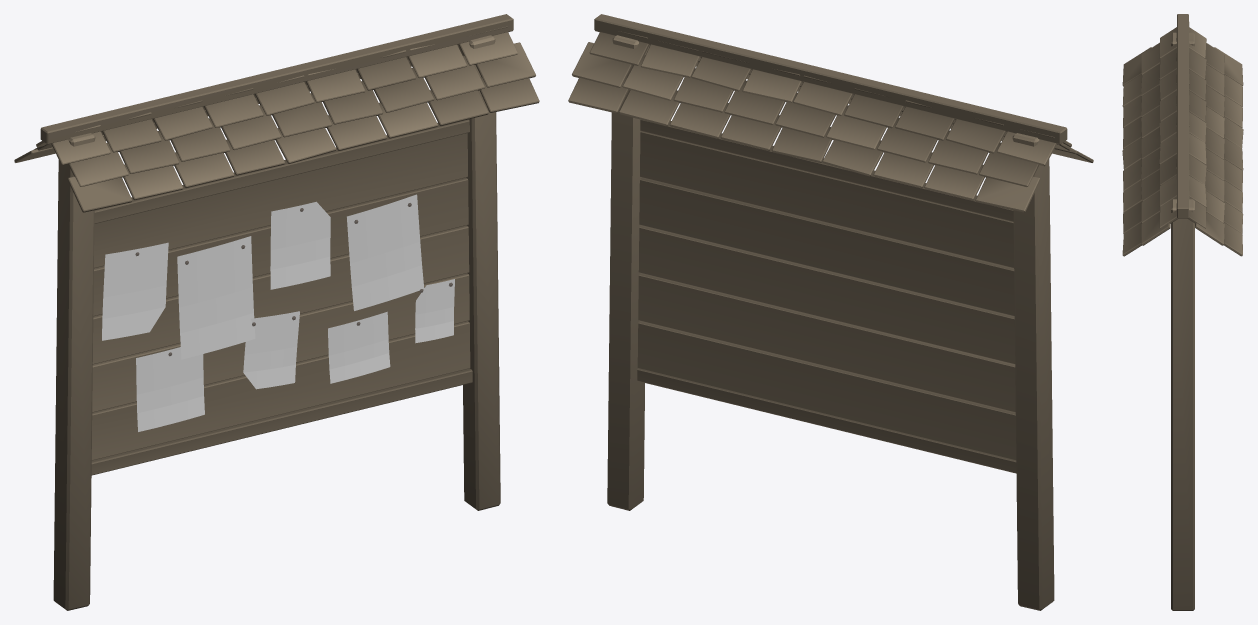
File: notice_board.glb
The picture shows the model from 3 angles, left to right: view 1: azimuth 30°, elevation 25°; view 2: azimuth 150°, elevation 25°; view 3: azimuth 270°, elevation 25°; orthographic projection. The views are drawn at different scales.
Visible parts, largest first — view 1: notice_board, notice_board_paper; view 2: notice_board; view 3: notice_board.
Boxes of the visible parts, x1=… form: notice_board: x1=14, y1=14, x2=539, y2=610; notice_board_paper: x1=102, y1=194, x2=454, y2=431; notice_board: x1=568, y1=14, x2=1093, y2=610; notice_board: x1=1122, y1=14, x2=1243, y2=610.
Size of what is drawn, in the model's own units: 2.66 by 2.61 by 0.6975.
